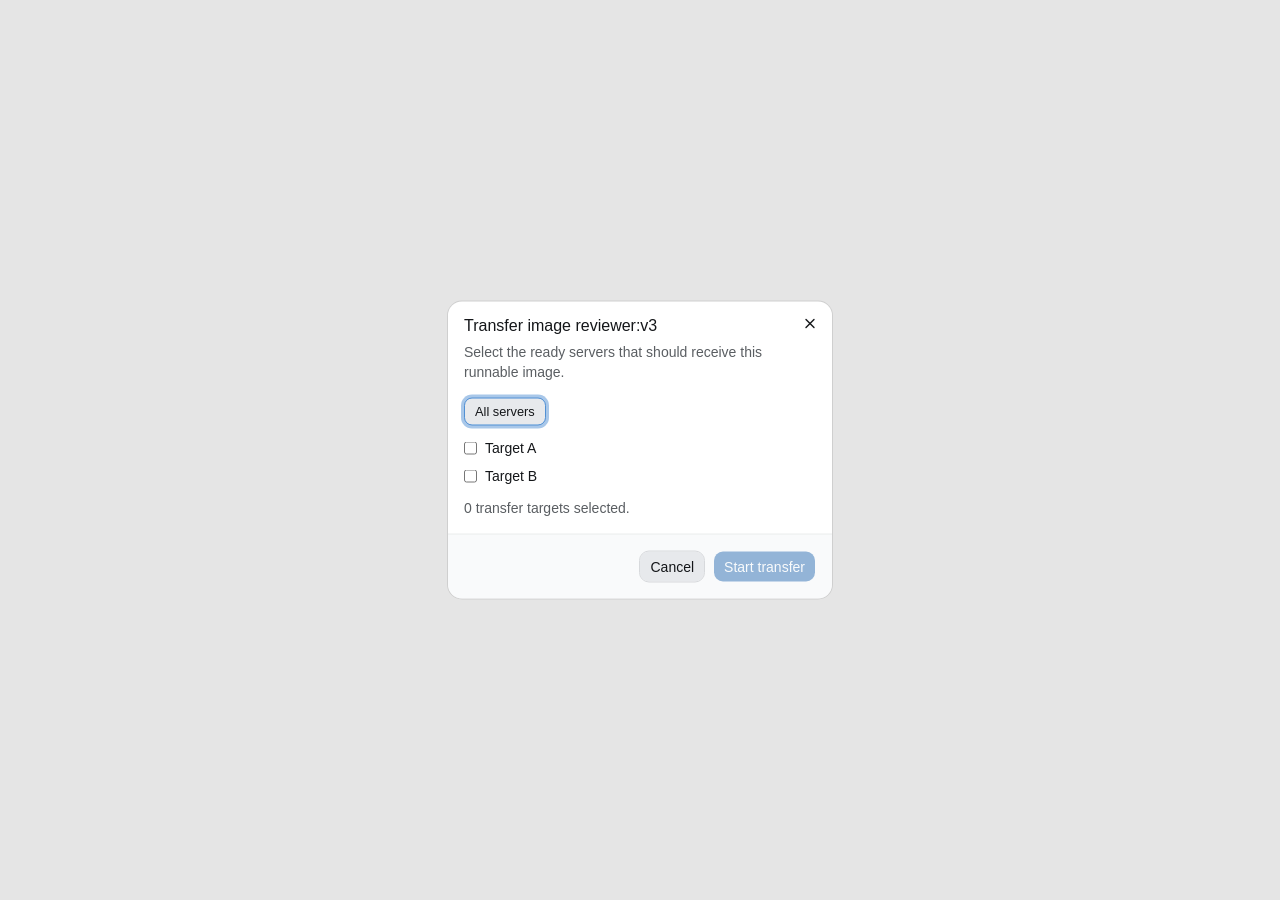
cancels before starting the next selected target
The width and height of the screenshot is (1280, 900).
Step 1. Click the button "All servers" → point(505, 412), box [464,398,546,426]
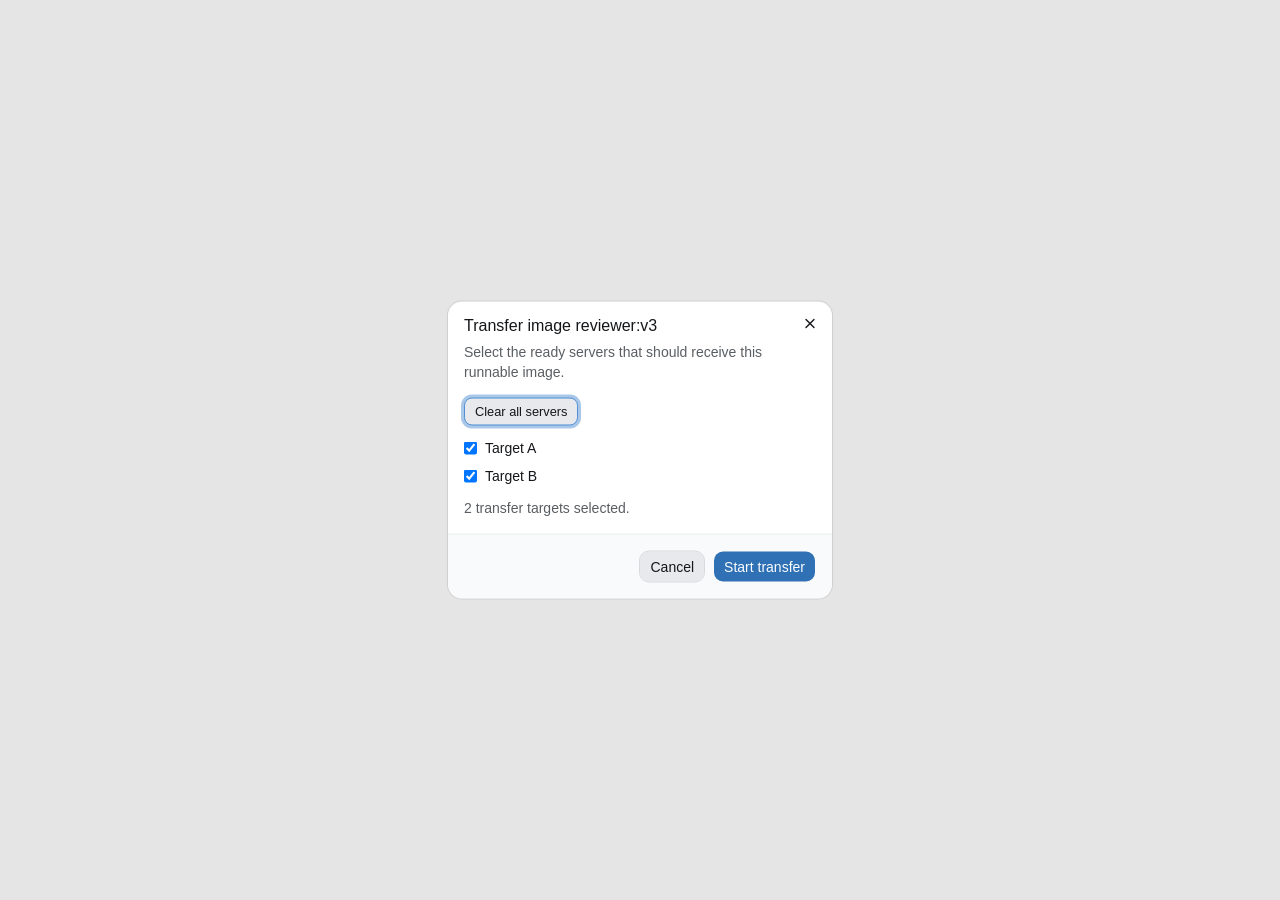
Step 2. Click the button "Start transfer" → point(765, 566), box [713,550,816,582]
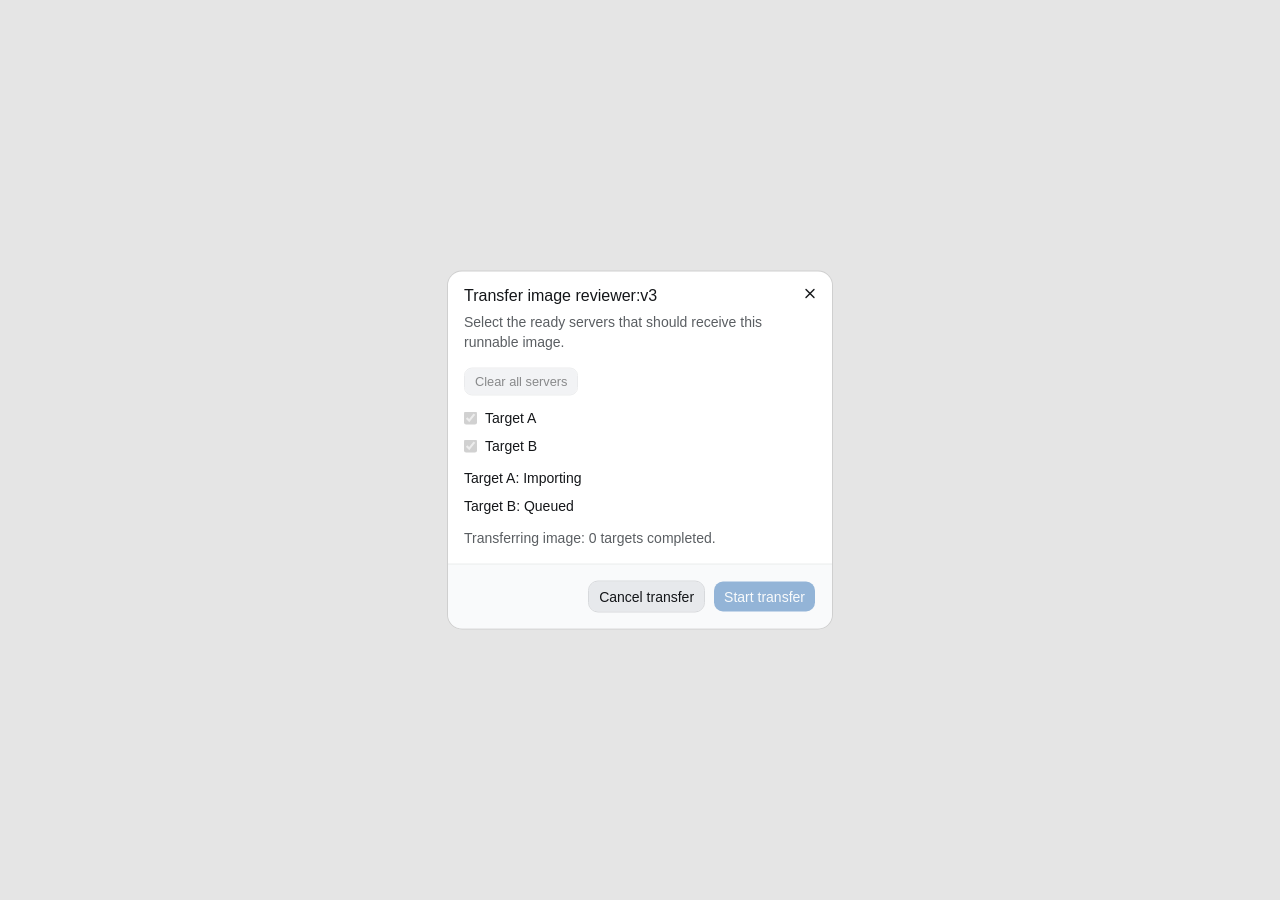
Step 3. Click the button "Cancel transfer" → point(647, 596), box [588,580,705,612]
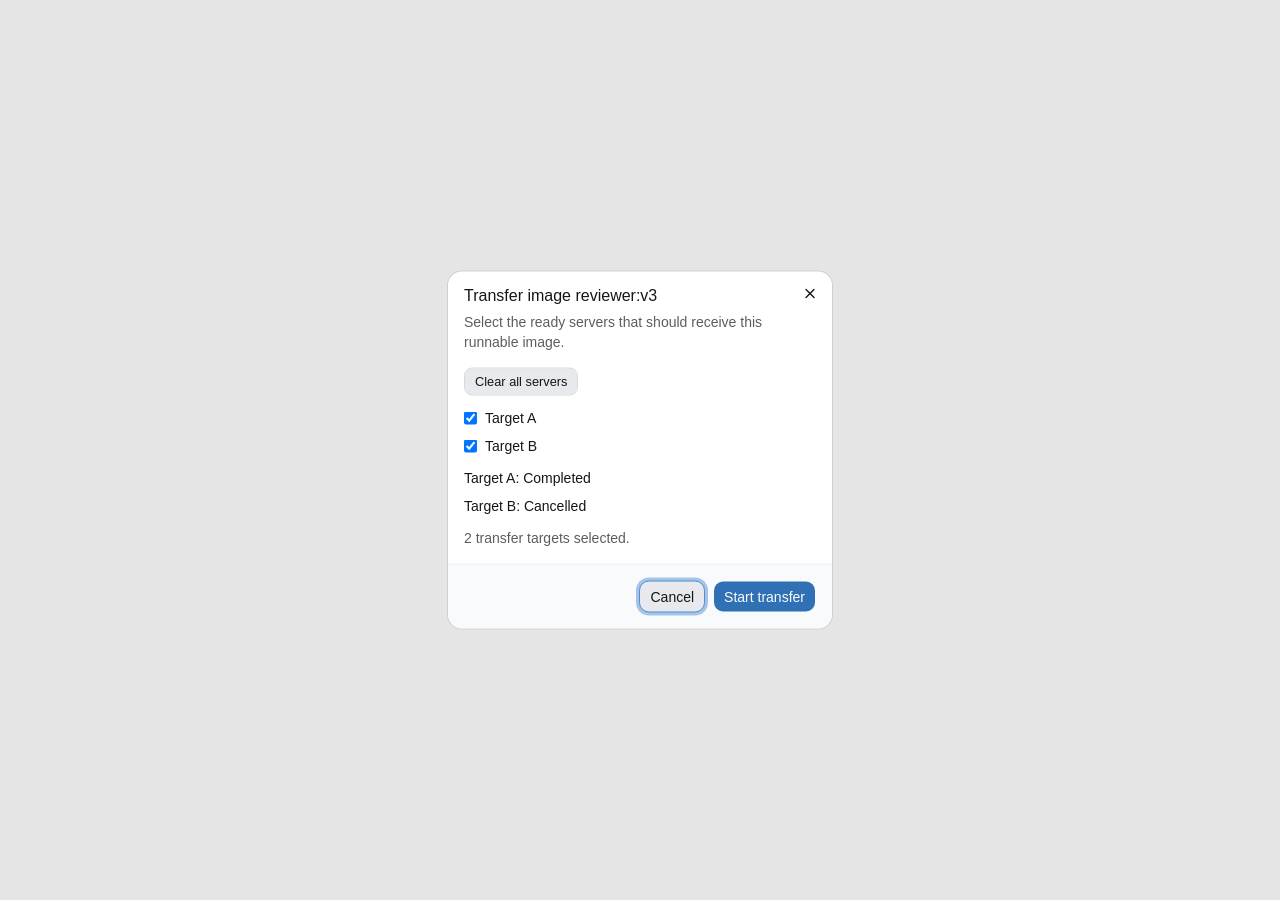
Now the text "Target B: Cancelled" is shown, box [464,498,586,514]
Now the text "Target A: Completed" is shown, box [464,470,591,486]
